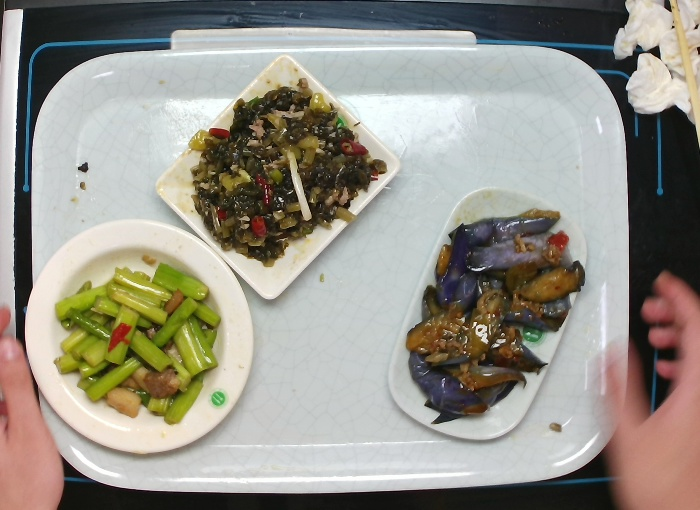WCQzf-Bai_Se_Si_Fang_Die: (153, 53, 400, 303)
WCQzf-Kuan_Bian_Yuan_Die: (20, 219, 255, 457)
WCQzf-Tuo_Yuan_Pan: (380, 179, 591, 443)
